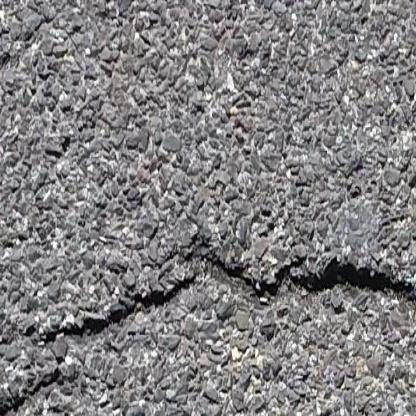Cracks: (0, 190, 416, 383), (0, 352, 77, 416)
